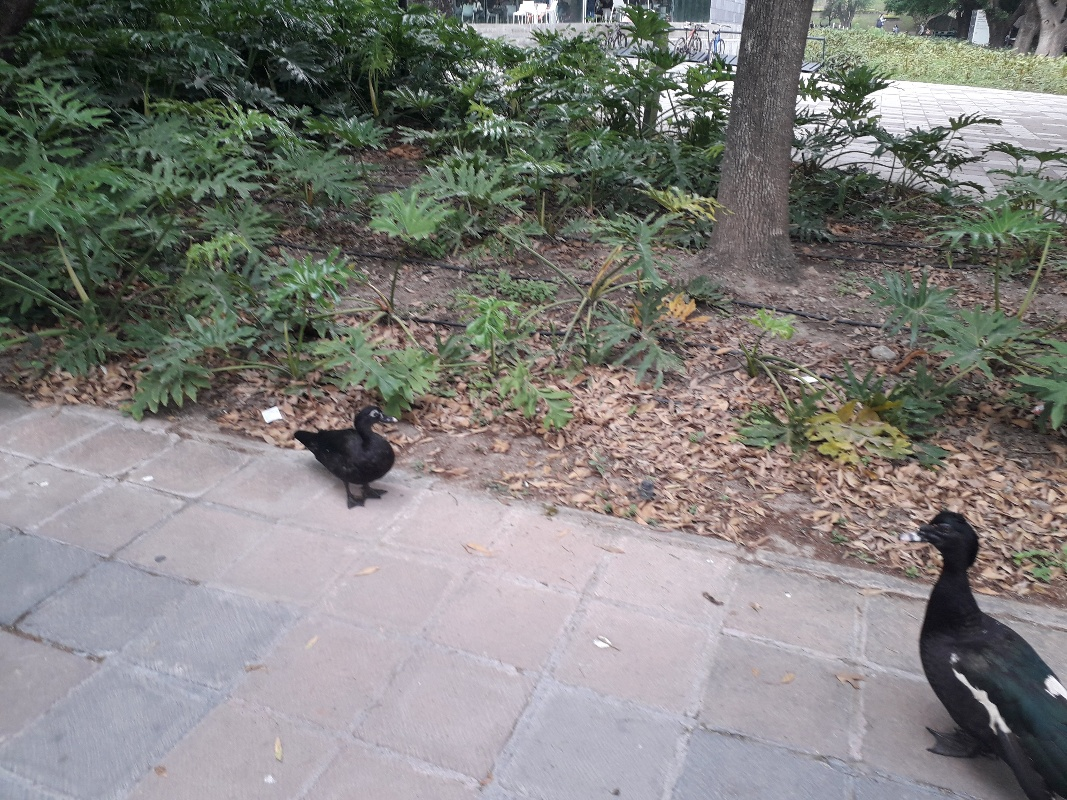pato: (902, 507, 1057, 791), (305, 404, 395, 509)
